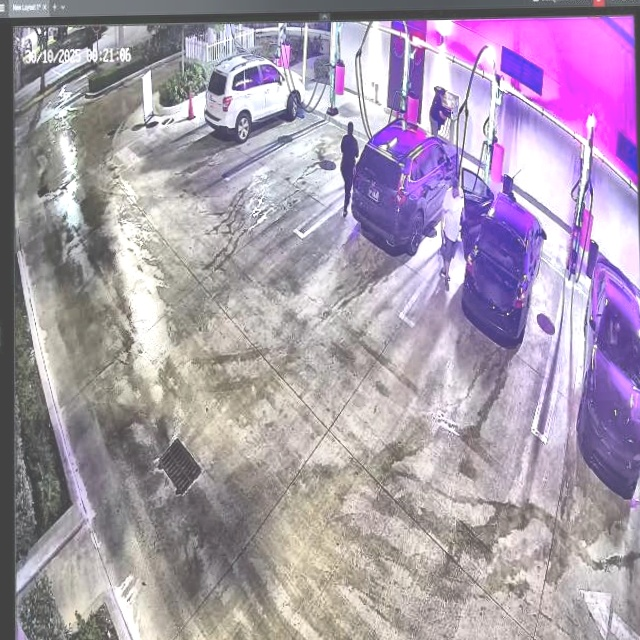Car: (459, 170, 545, 343), (354, 118, 462, 248)
